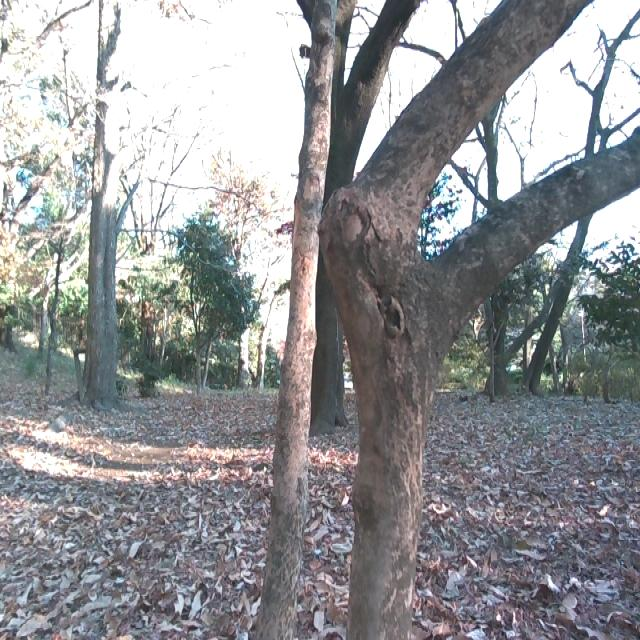tree: (242, 0, 640, 640), (529, 0, 640, 392), (79, 0, 137, 411), (469, 0, 513, 388), (173, 261, 216, 395)
